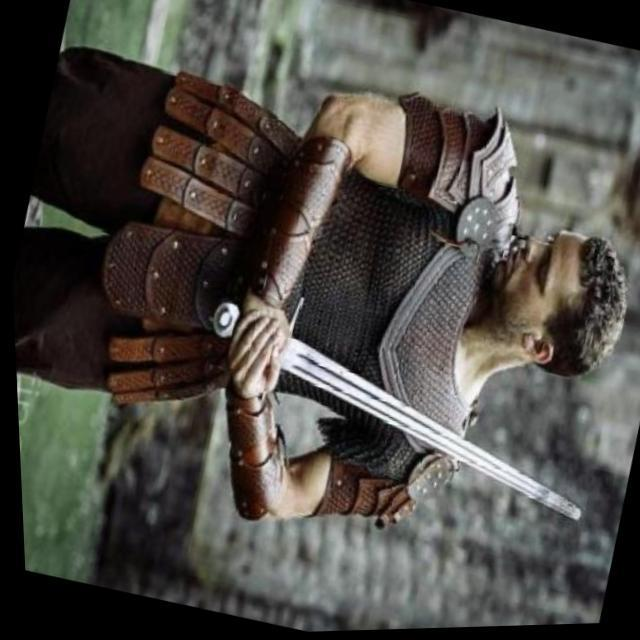weapon: (175, 269, 618, 536)
